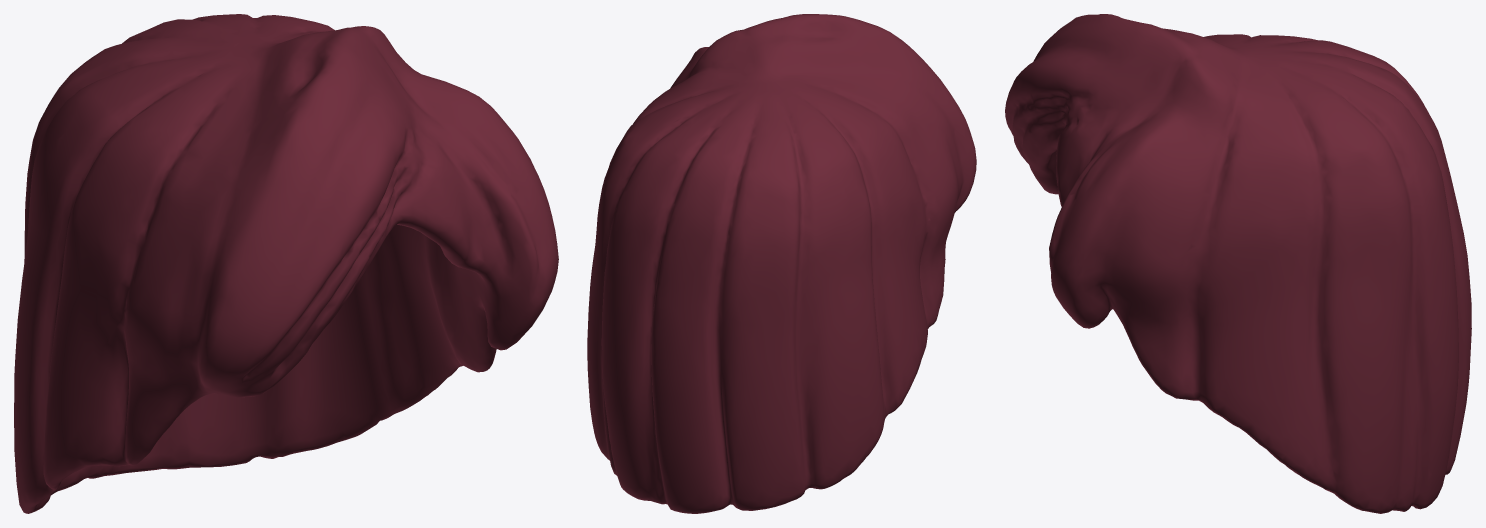
The model's file is merlot_angled_bob.glb.
3 views of the same model, side by side, from view 1: azimuth 30°, elevation 25°; view 2: azimuth 150°, elevation 25°; view 3: azimuth 270°, elevation 25° (orthographic). The views are drawn at different scales.
Parts seen in each view (by area): view 1: merlot_angled_bob; view 2: merlot_angled_bob; view 3: merlot_angled_bob.
Boxes of the visible parts, bbox=[...] form: merlot_angled_bob: bbox=[14, 14, 558, 513]; merlot_angled_bob: bbox=[587, 14, 976, 513]; merlot_angled_bob: bbox=[1005, 14, 1471, 513].
Size of the model in its own units: 0.7845 by 1.02 by 0.9463.
